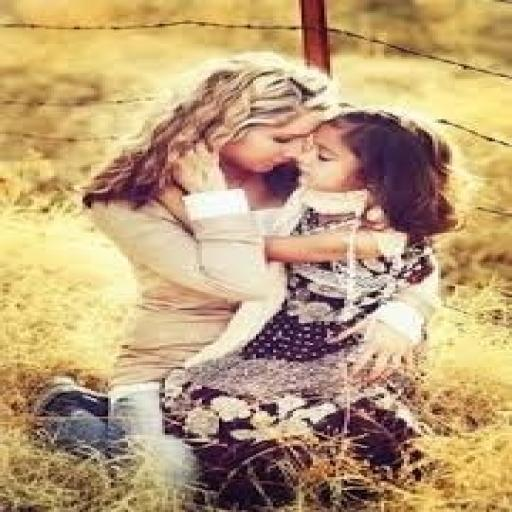hugging: (28, 52, 464, 506)
